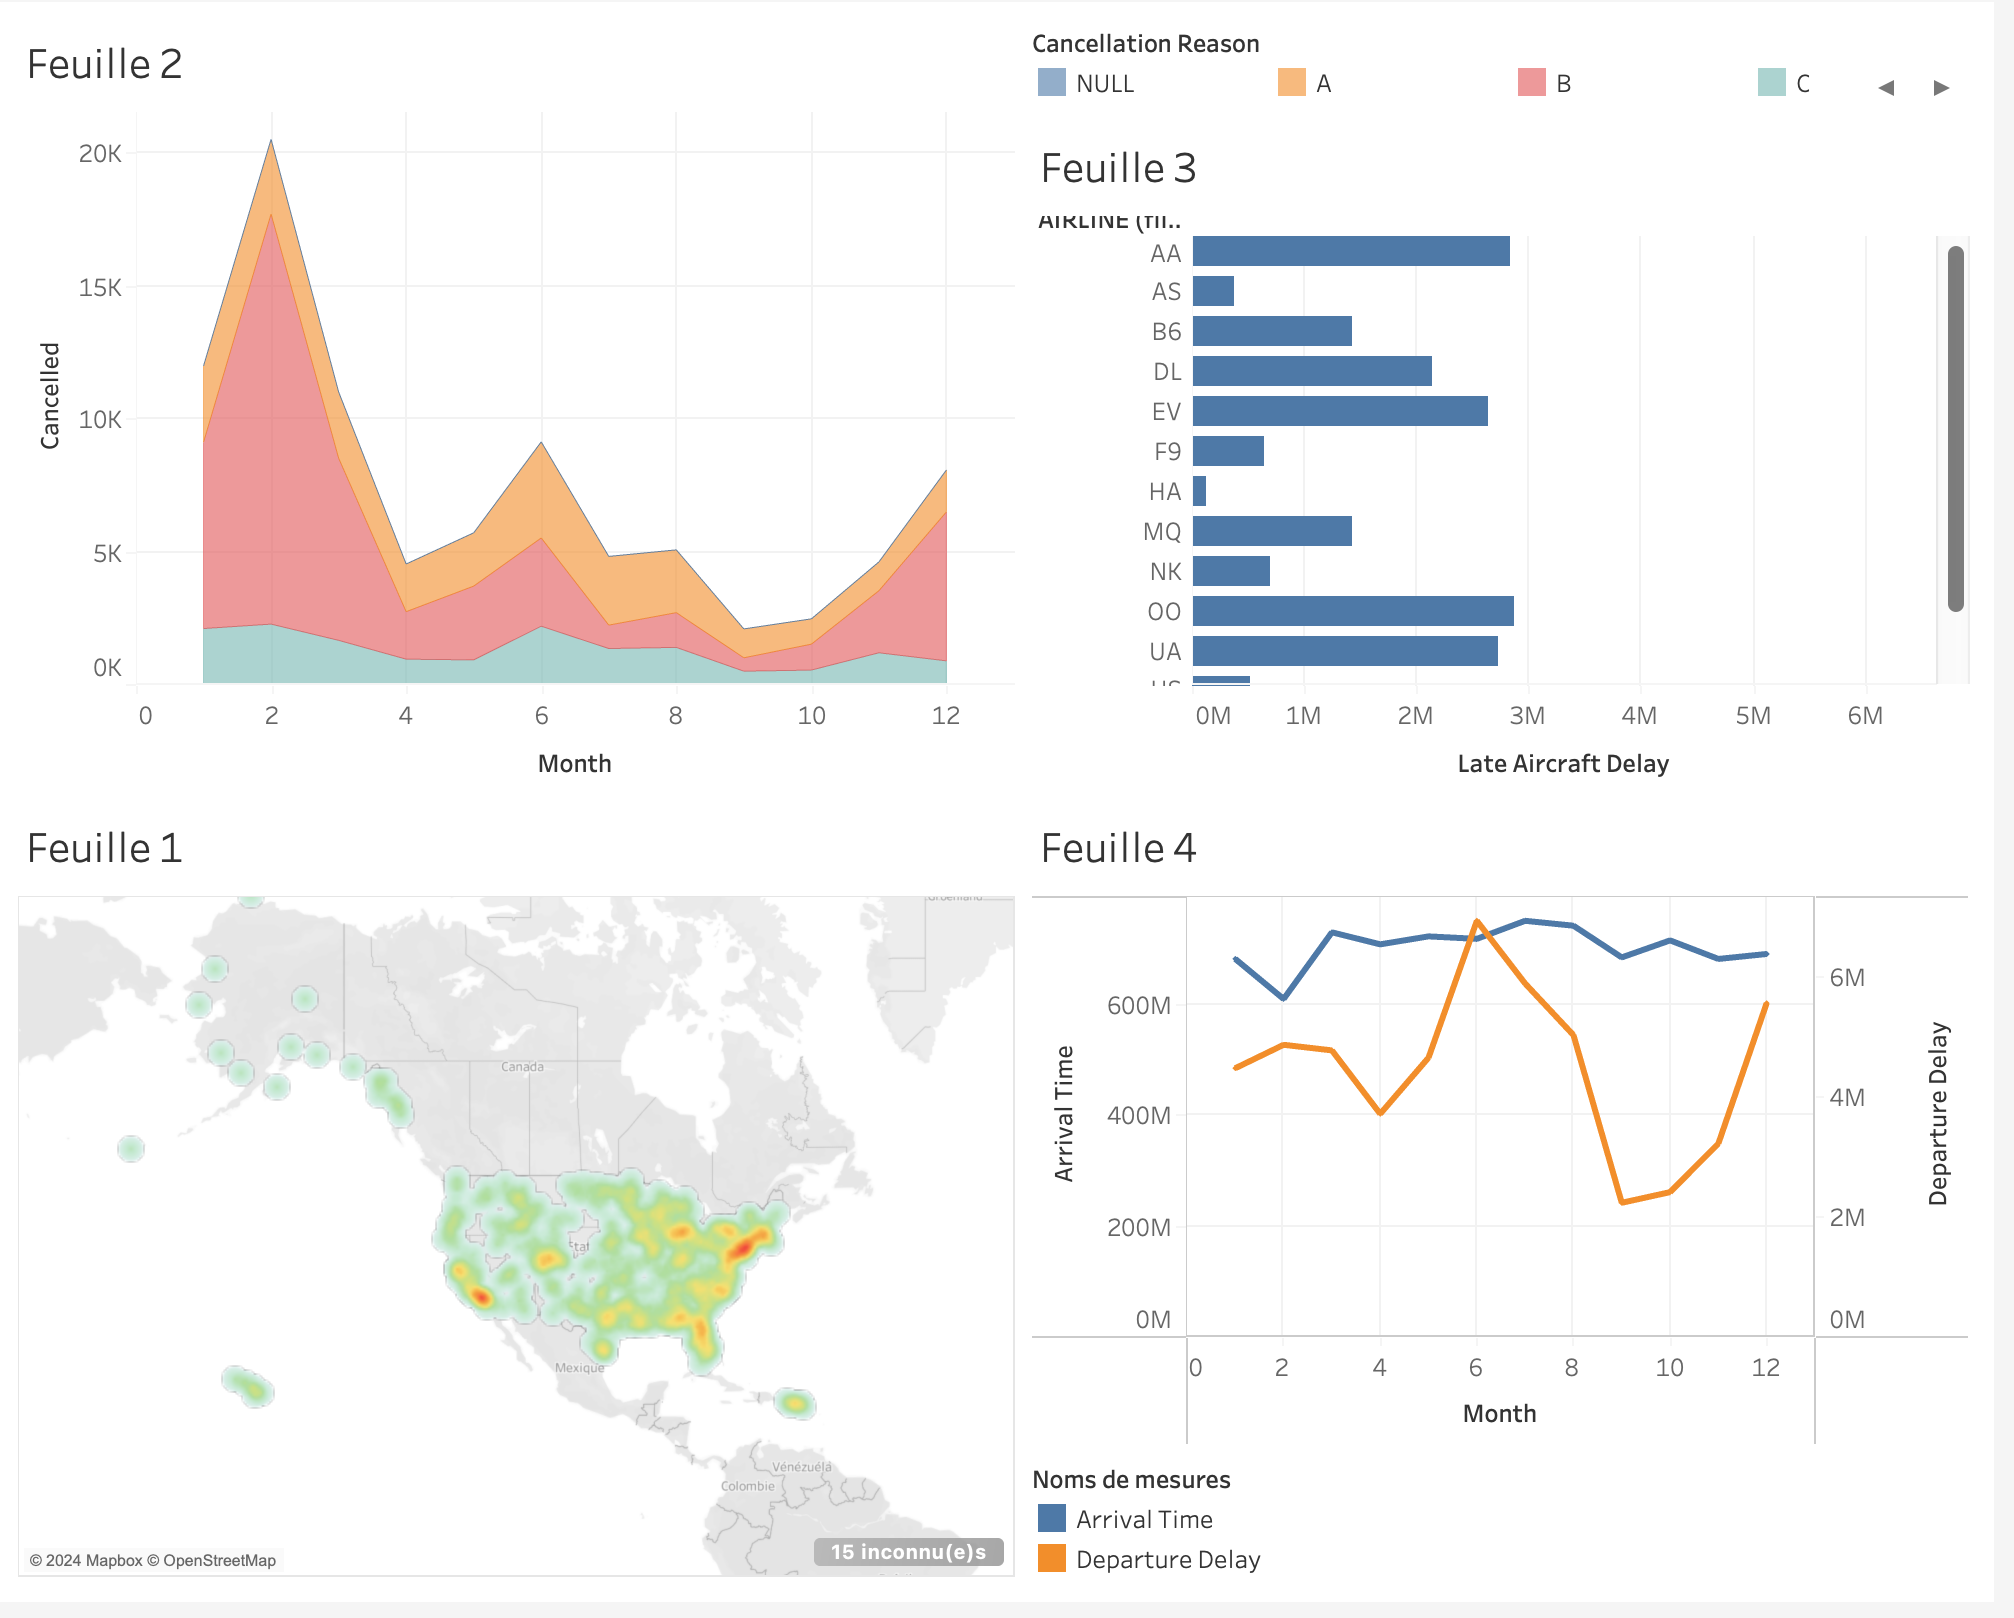

What the dashboard file says about the page in this screenshot:
{"tool":"tableau","page":{"name":"Tableau de bord 1","canvas":[1000,800],"ordinal":0},"visuals":[{"type":"worksheet","title":"Feuille 2","mark":"Area","rows":["CANCELLED"],"cols":["MONTH"],"box":[8,8,507,392]},{"type":"legend","title":"Feuille 2","param":"[federated.0zvqn9c0pngm9513rahdz1xu0i6q].[none:CANCELLATION_REASON:nk]","box":[515,8,477,52]},{"type":"worksheet","title":"Feuille 3","mark":"Automatic","rows":["AIRLINE (flights.csv)"],"cols":["LATE_AIRCRAFT_DELAY"],"box":[515,60,477,340]},{"type":"worksheet","title":"Feuille 1","mark":"Heatmap","box":[8,400,507,392]},{"type":"worksheet","title":"Feuille 4","mark":"Automatic","rows":["ARRIVAL_TIME","DEPARTURE_DELAY"],"cols":["MONTH"],"box":[515,400,477,326]},{"type":"legend","title":"Feuille 4","param":"[federated.0zvqn9c0pngm9513rahdz1xu0i6q].[:Measure Names]","box":[515,726,477,66]}]}

Visuals, with their boxes in screenshot pixels (x1, y1, x2, y2), scaled from the page's 1000x800 canvas onto the 2014x1618 screenshot:
"Feuille 2" worksheet (Area marks): box=[16, 16, 1037, 809]
"Feuille 2" legend: box=[1037, 16, 1998, 121]
"Feuille 3" worksheet: box=[1037, 121, 1998, 809]
"Feuille 1" worksheet (Heatmap marks): box=[16, 809, 1037, 1602]
"Feuille 4" worksheet: box=[1037, 809, 1998, 1468]
"Feuille 4" legend: box=[1037, 1468, 1998, 1602]
